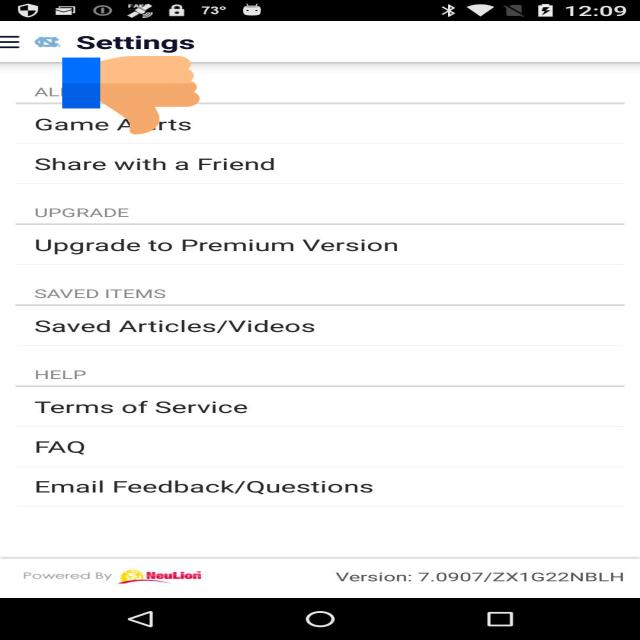obstruction: (62, 54, 200, 136)
